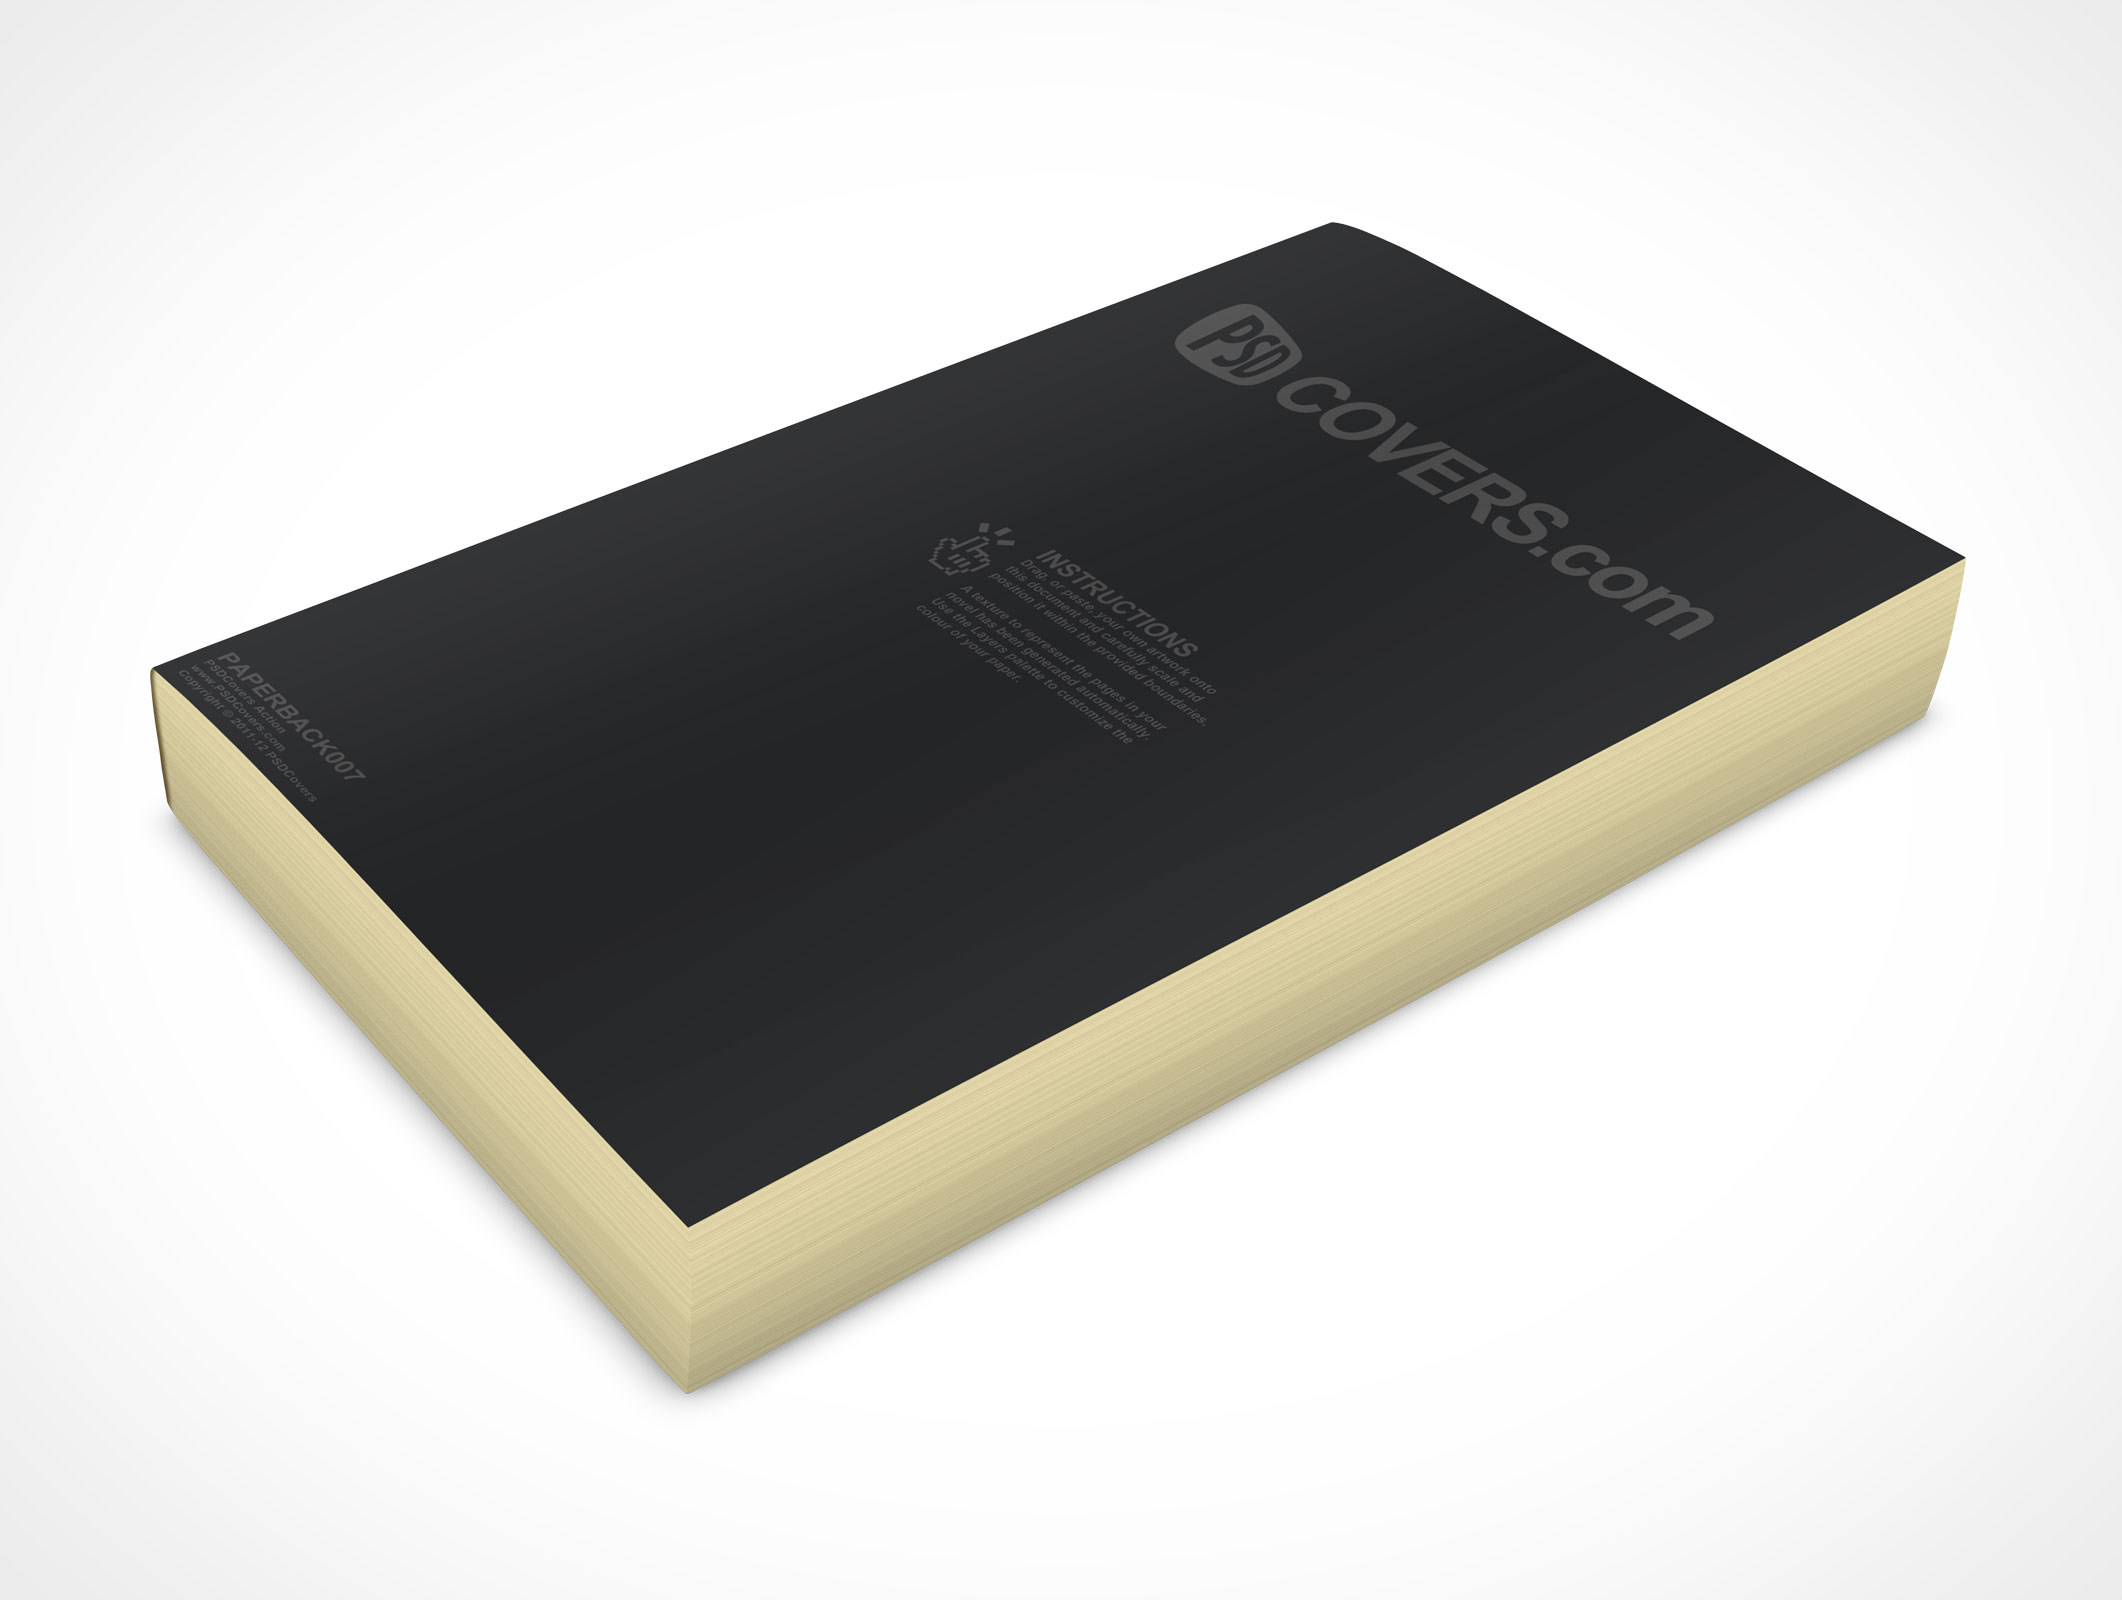Rec_Paper: (86, 207, 2003, 1392)
